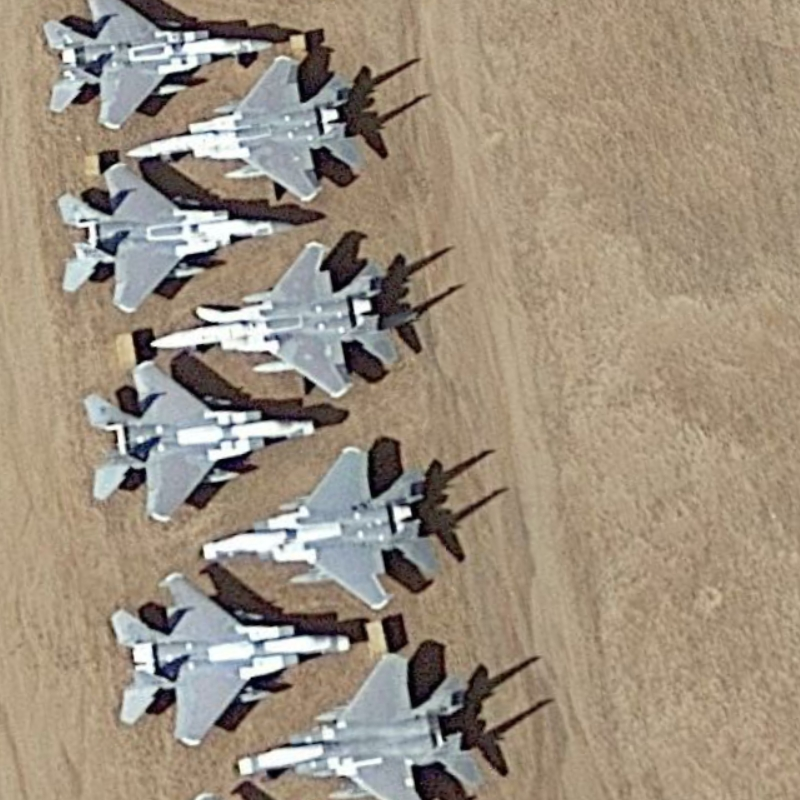A13: (146, 229, 423, 405), (199, 435, 458, 612), (104, 568, 357, 745), (68, 352, 320, 526), (231, 637, 484, 800), (48, 152, 299, 314), (131, 55, 377, 202), (38, 4, 284, 132)
